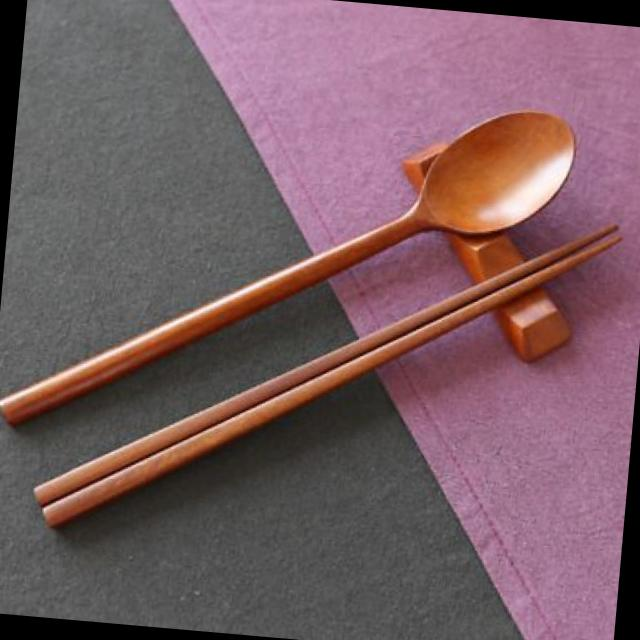spoon: (0, 97, 597, 439)
